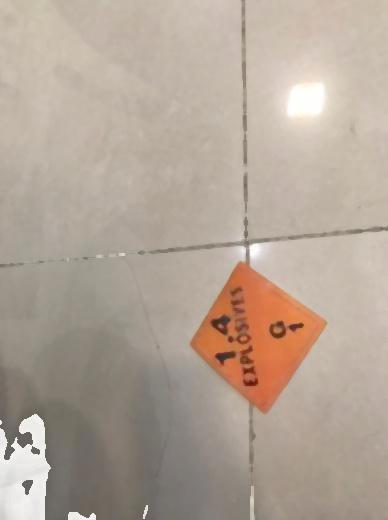explosive: (188, 260, 332, 414)
